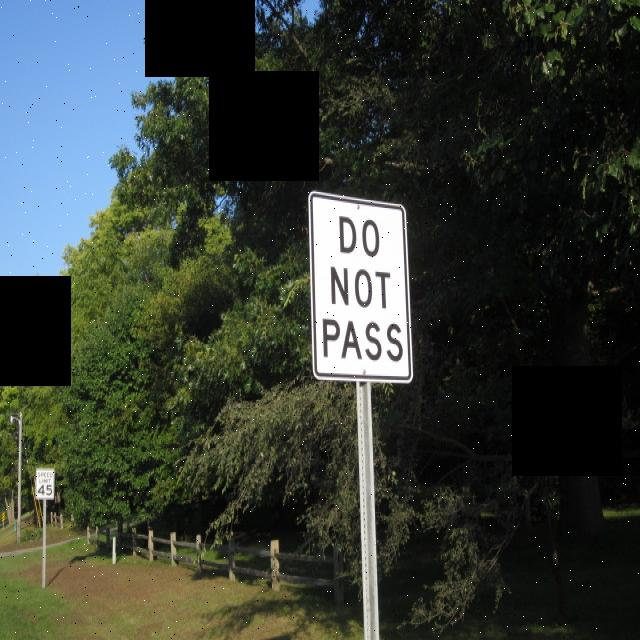regulatory: (304, 189, 416, 388), (34, 467, 56, 501)
